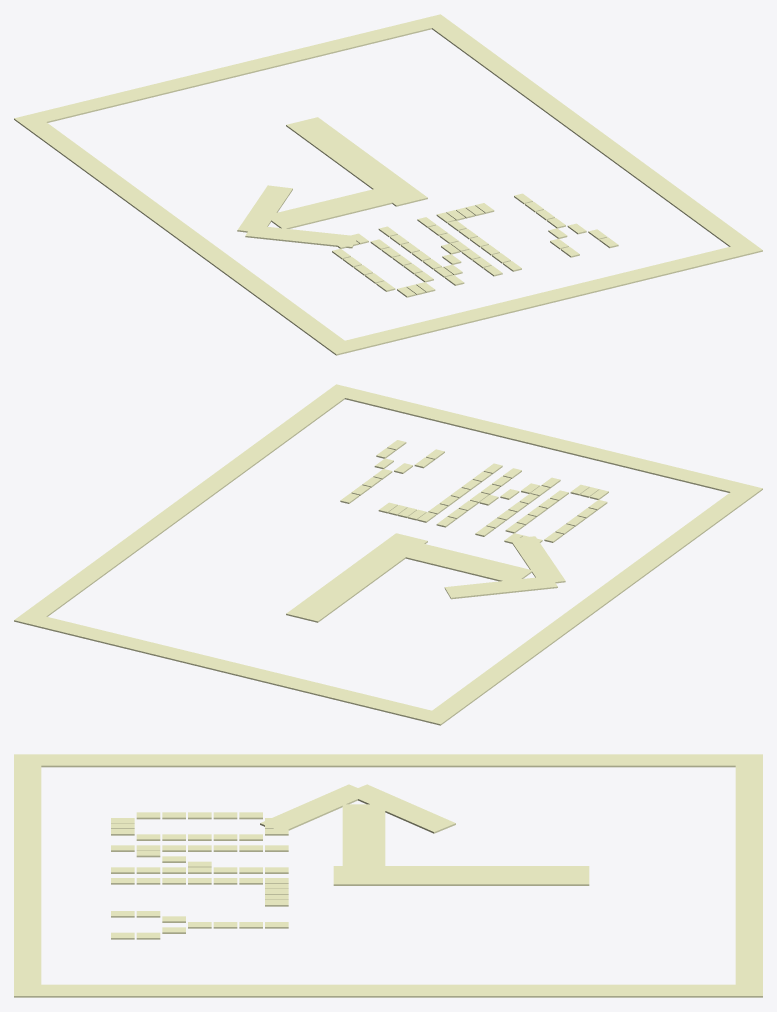
Rendered from marking_turn_left_only_box_white.glb.
3 renders of one model, top to bottom at view 1: azimuth 30°, elevation 25°; view 2: azimuth 150°, elevation 25°; view 3: azimuth 270°, elevation 25°, orthographic. The views are drawn at different scales.
Parts seen in each view (by area): view 1: turn_left_only_box_left, turn_left_only_box_right, turn_left_only_box_bottom, turn_left_only_box_top, turn_left_only_box_arrow_shaft, turn_left_only_box_arrow_arm, turn_left_only_box_arrow_head_upper, turn_left_only_box_arrow_head_lower; view 2: turn_left_only_box_left, turn_left_only_box_right, turn_left_only_box_top, turn_left_only_box_bottom, turn_left_only_box_arrow_shaft, turn_left_only_box_arrow_arm, turn_left_only_box_arrow_head_lower, turn_left_only_box_arrow_head_upper; view 3: turn_left_only_box_left, turn_left_only_box_right, turn_left_only_box_top, turn_left_only_box_bottom, turn_left_only_box_arrow_shaft, turn_left_only_box_arrow_arm, turn_left_only_box_arrow_head_upper, turn_left_only_box_arrow_head_lower.
Part boxes in pixels (<box>): turn_left_only_box_left: <box>25,122,344,346</box>; turn_left_only_box_right: <box>432,23,750,246</box>; turn_left_only_box_bottom: <box>324,241,762,355</box>; turn_left_only_box_top: <box>14,14,451,127</box>; turn_left_only_box_arrow_shaft: <box>286,117,427,206</box>; turn_left_only_box_arrow_arm: <box>266,181,423,228</box>; turn_left_only_box_arrow_head_upper: <box>245,225,357,248</box>; turn_left_only_box_arrow_head_lower: <box>237,185,292,232</box>; turn_left_only_box_left: <box>432,492,751,716</box>; turn_left_only_box_right: <box>26,393,344,616</box>; turn_left_only_box_top: <box>14,611,452,725</box>; turn_left_only_box_bottom: <box>325,384,762,497</box>; turn_left_only_box_arrow_shaft: <box>286,533,427,622</box>; turn_left_only_box_arrow_arm: <box>374,536,531,583</box>; turn_left_only_box_arrow_head_lower: <box>444,576,557,599</box>; turn_left_only_box_arrow_head_upper: <box>510,536,565,583</box>; turn_left_only_box_left: <box>41,754,735,767</box>; turn_left_only_box_right: <box>41,984,735,997</box>; turn_left_only_box_top: <box>735,754,762,997</box>; turn_left_only_box_bottom: <box>14,754,41,997</box>; turn_left_only_box_arrow_shaft: <box>333,866,589,885</box>; turn_left_only_box_arrow_arm: <box>342,804,385,885</box>; turn_left_only_box_arrow_head_upper: <box>260,784,370,831</box>; turn_left_only_box_arrow_head_lower: <box>346,784,455,833</box>.
Size of the model in its own units: 1.88 by 0.006 by 2.46.
